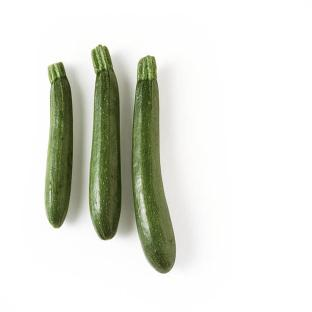Zucchini: (132, 57, 175, 273), (90, 46, 121, 239), (45, 63, 72, 227)
